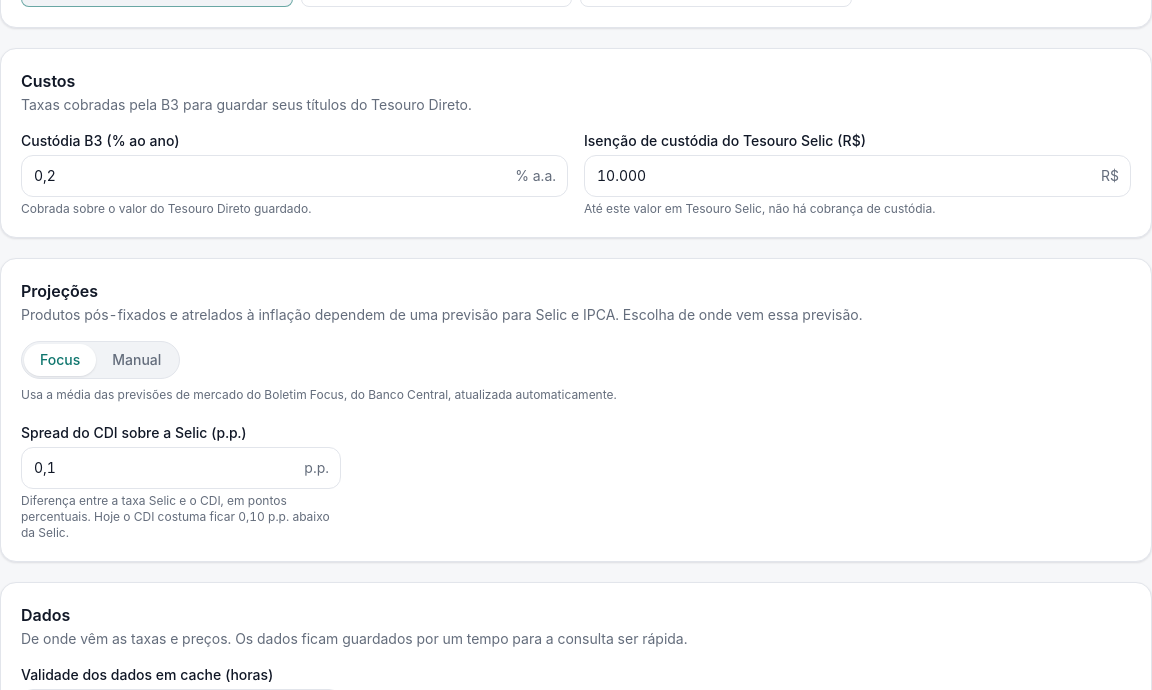
Test: modo Manual: explica a regra da última linha e não deixa removê-la
(page scrolled)
Click the radio button labelled "Manual". click: {"x": 137, "y": 360}
box: x1=96 y1=344 x2=177 y2=376
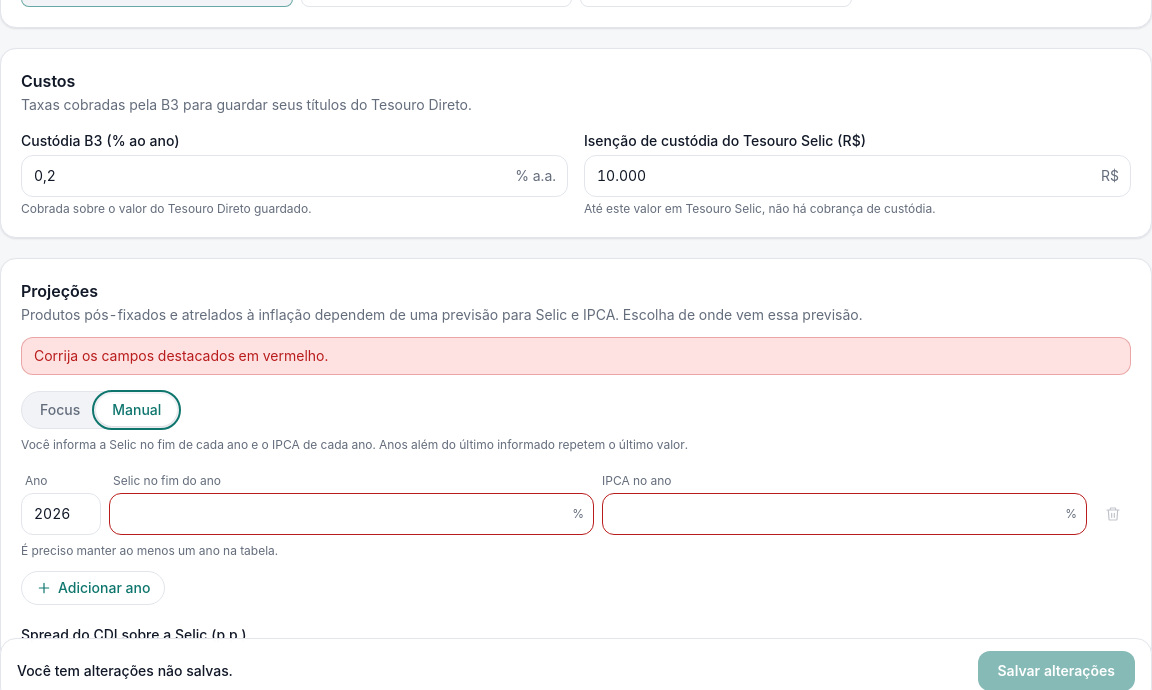
Result: the button named "Remover linha 1" is disabled at x1=1095 y1=496 x2=1131 y2=532
Result: the text "É preciso manter ao menos um ano na tabela." is shown at x1=21 y1=543 x2=278 y2=558
Click the button "Adicionar ano". click: {"x": 93, "y": 588}
box: x1=21 y1=571 x2=165 y2=605
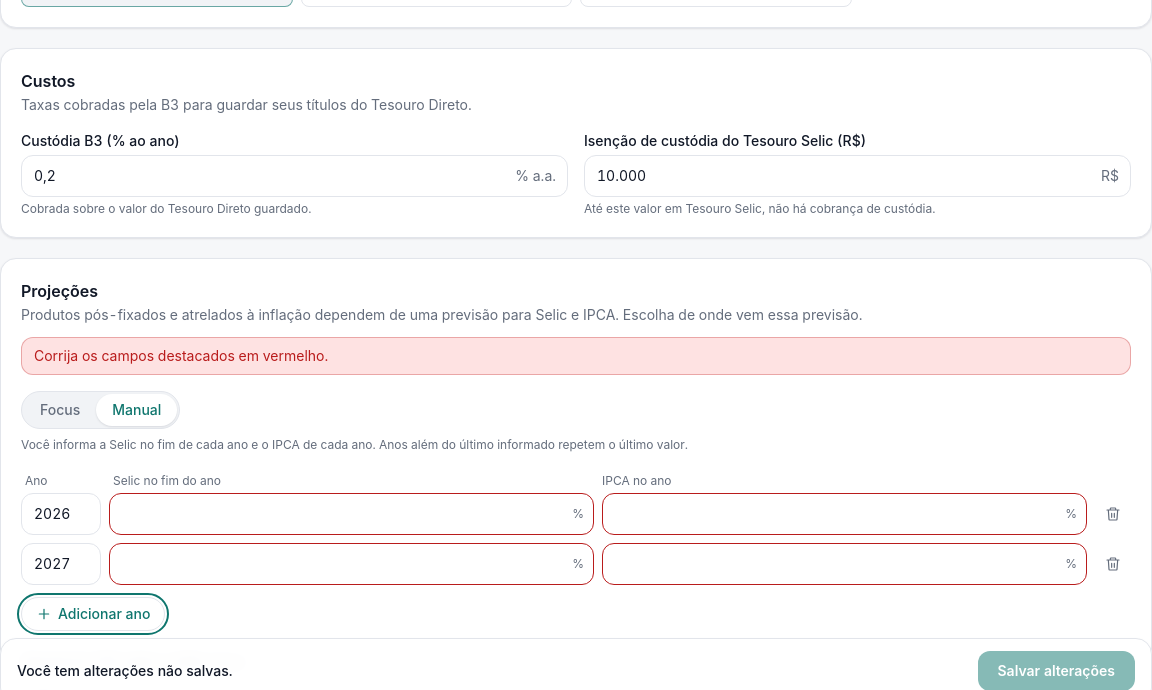
Result: the button named "Remover linha 1" is enabled at x1=1095 y1=496 x2=1131 y2=532
